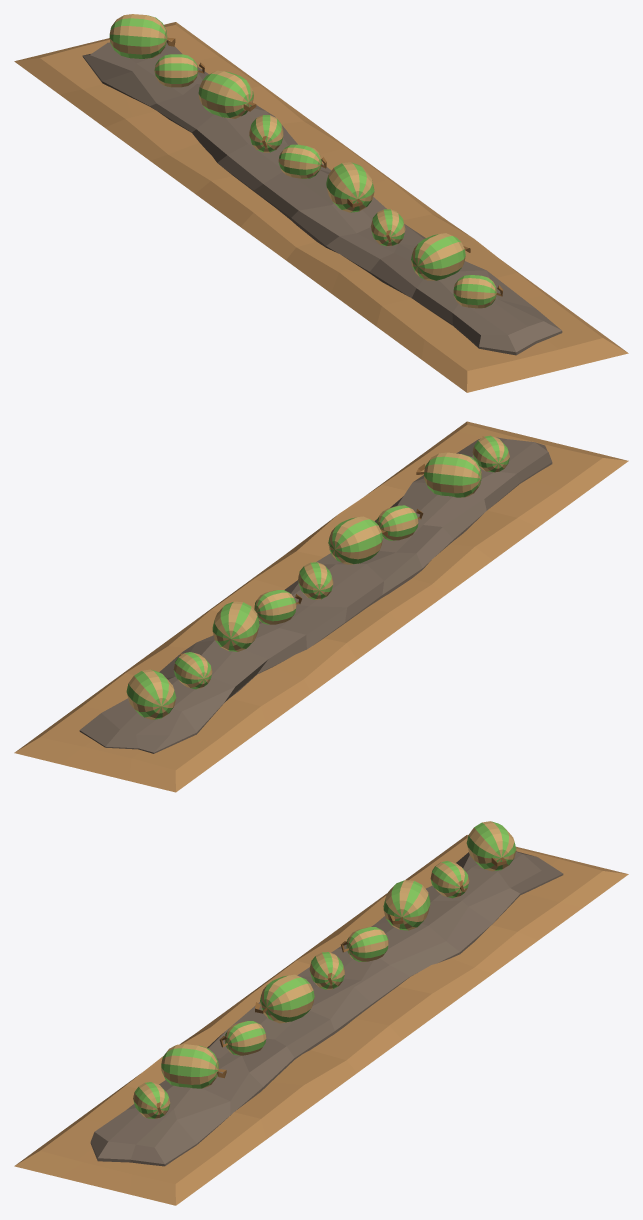
File: field_a_ready_1378.gltf
The picture shows the model from 3 angles, top to bottom: view 1: azimuth 30°, elevation 25°; view 2: azimuth 150°, elevation 25°; view 3: azimuth 330°, elevation 25°; orthographic projection.
Parts seen in each view (by area): view 1: field_a_ready002; view 2: field_a_ready002; view 3: field_a_ready002.
Boxes of the visible parts, bbox=[...] form: field_a_ready002: bbox=[14, 14, 628, 392]; field_a_ready002: bbox=[14, 421, 628, 792]; field_a_ready002: bbox=[14, 821, 628, 1205].
Size of the model in its own units: 1.05 by 0.419 by 5.09.
Materials: 1 (1 with a texture image).
